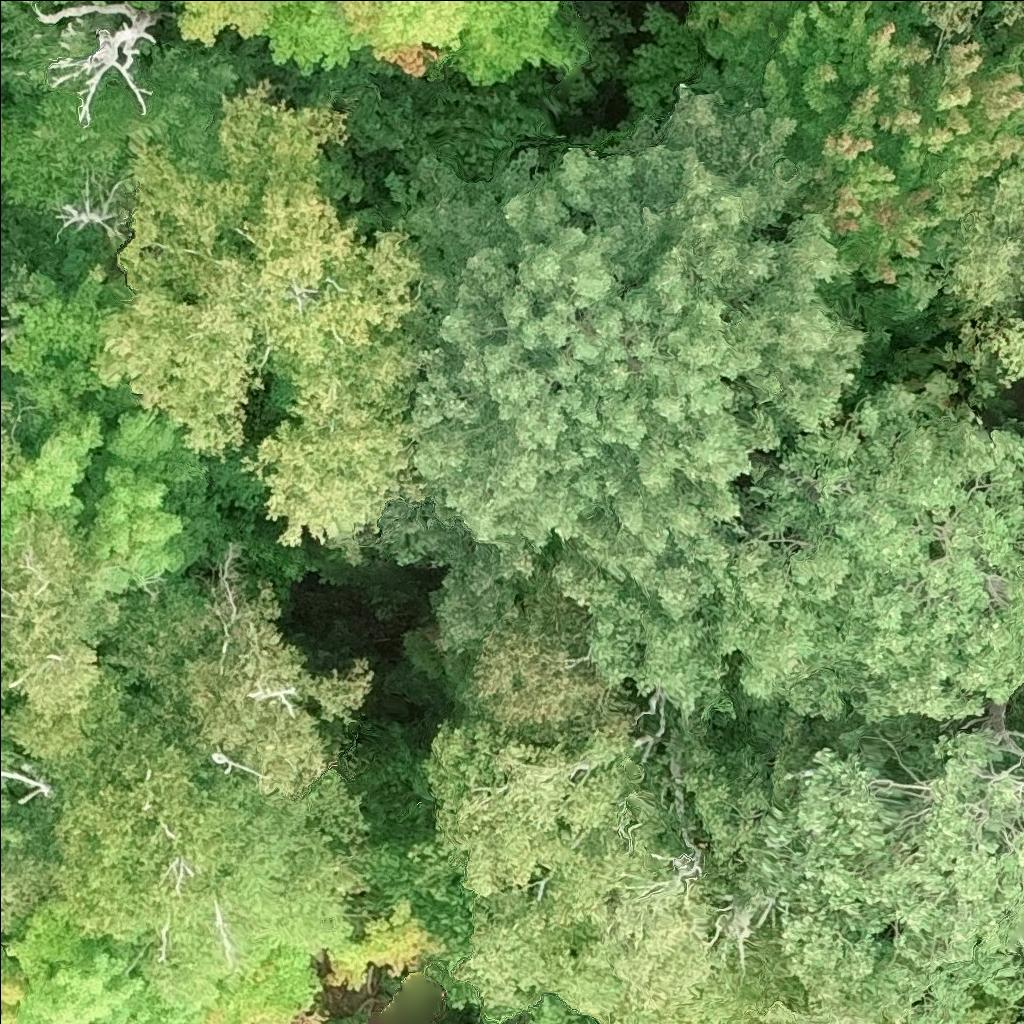crown: (389, 87, 866, 718), (96, 83, 420, 545), (0, 687, 368, 1006), (694, 375, 1023, 722), (679, 702, 1023, 1023), (0, 263, 274, 589), (763, 0, 1023, 318), (97, 571, 375, 841), (0, 889, 445, 1023), (0, 0, 247, 217), (450, 830, 720, 1023), (423, 721, 652, 901), (0, 509, 124, 757), (266, 0, 589, 85), (952, 168, 1023, 382), (695, 0, 855, 60), (864, 0, 960, 53), (175, 0, 283, 46), (0, 264, 38, 326), (0, 393, 23, 471), (922, 0, 981, 30), (791, 1008, 896, 1023), (965, 996, 1023, 1023), (995, 0, 1023, 22), (129, 0, 167, 7), (89, 0, 103, 3), (60, 0, 67, 1), (21, 0, 26, 1)
